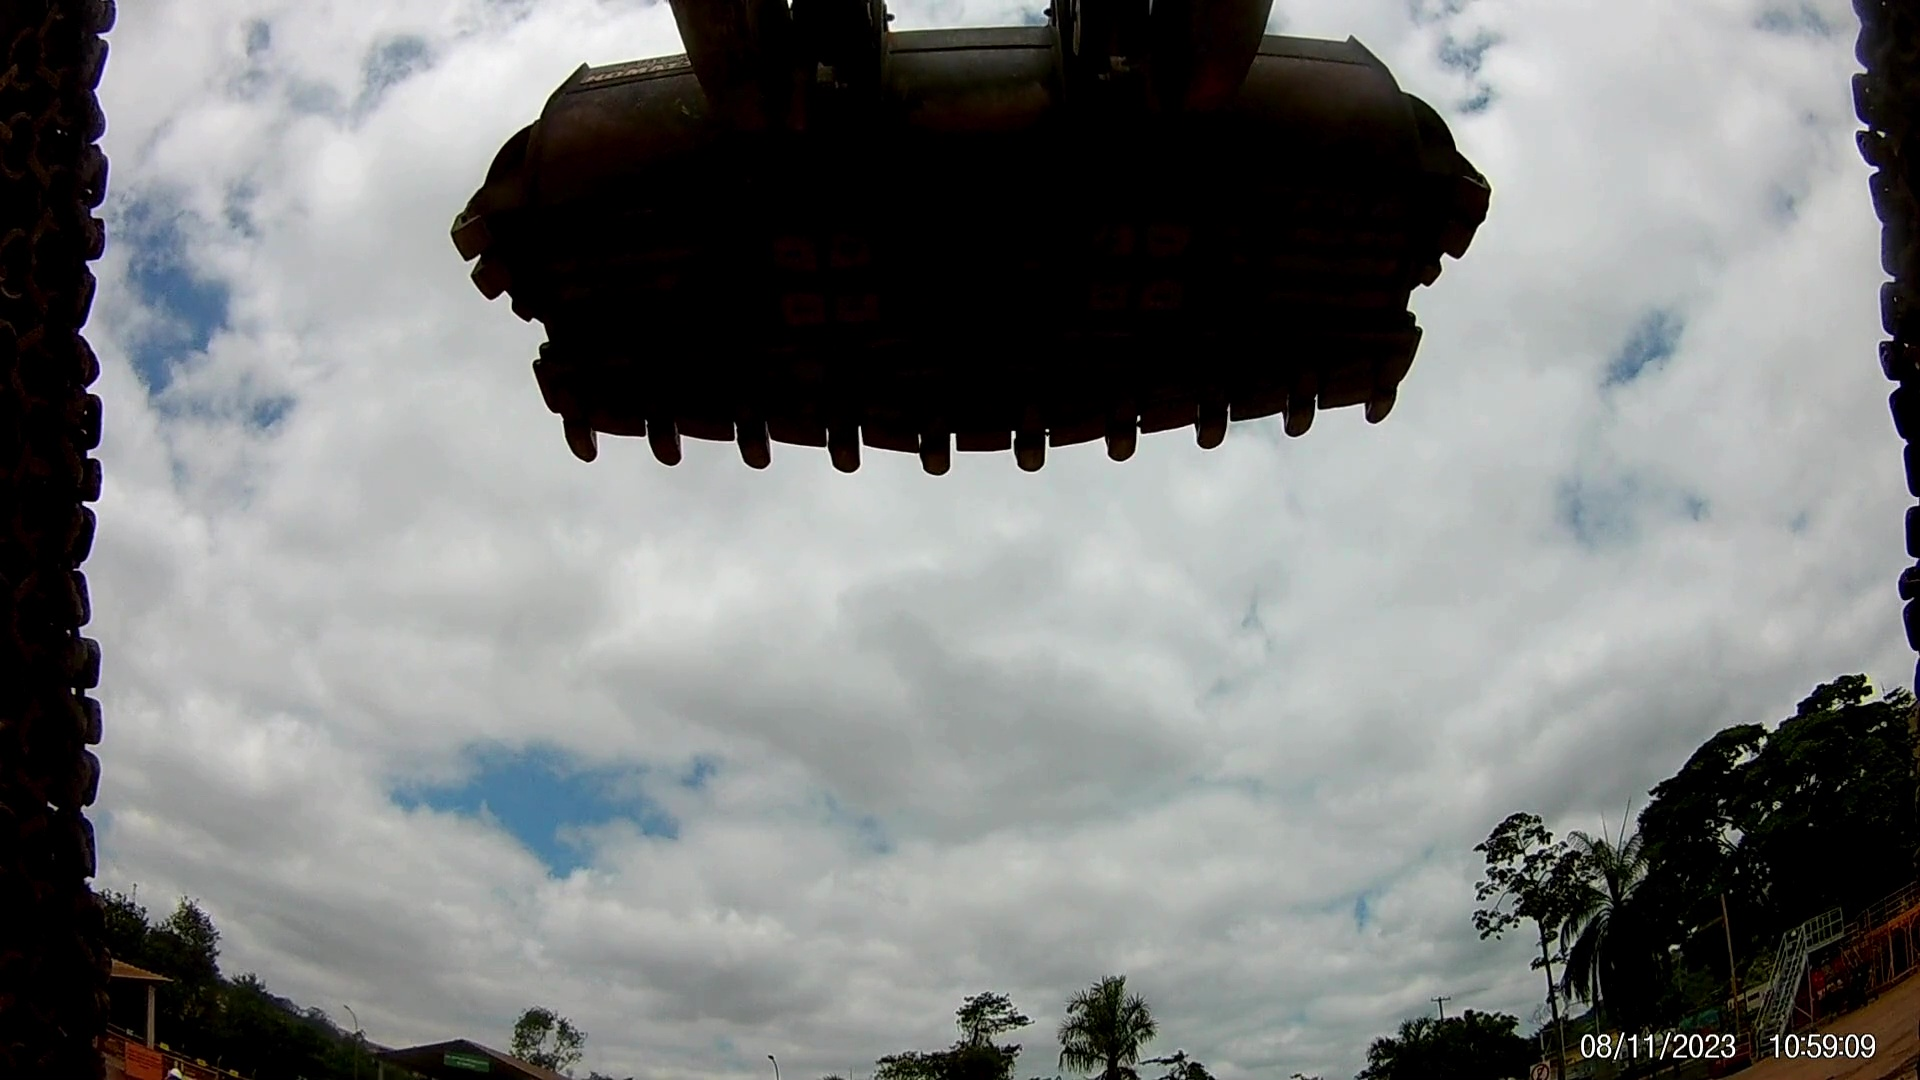FPS: (626, 422, 698, 472), (1185, 392, 1242, 454), (1001, 419, 1054, 484), (1270, 386, 1327, 444), (549, 419, 611, 472), (727, 434, 789, 481), (916, 425, 957, 491), (1101, 411, 1145, 472), (827, 422, 873, 476), (1366, 381, 1408, 436)
